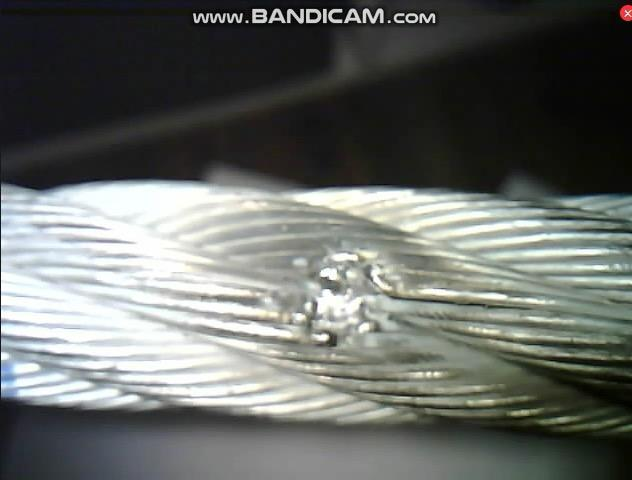thunderbolt: (260, 235, 416, 364)
